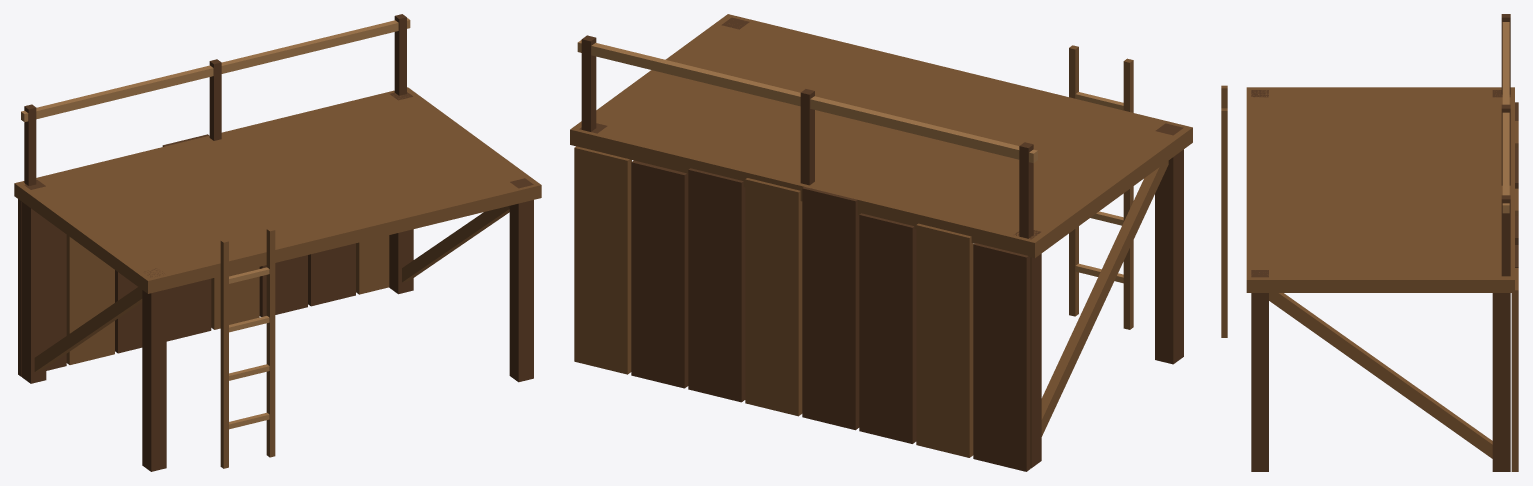
Rendered from SM_YardPlatformB.fbx.
3 renders of one model, left to right at view 1: azimuth 30°, elevation 25°; view 2: azimuth 150°, elevation 25°; view 3: azimuth 270°, elevation 25°, orthographic. The views are drawn at different scales.
Parts seen in each view (by area): view 1: SM_YardPlatformB; view 2: SM_YardPlatformB; view 3: SM_YardPlatformB.
Part boxes in pixels (<box>): SM_YardPlatformB: <box>14,14,541,471</box>; SM_YardPlatformB: <box>570,14,1192,471</box>; SM_YardPlatformB: <box>1221,14,1518,471</box>.
Bounding box in the file's own units: 5.1 × 3.33 × 3.35.
